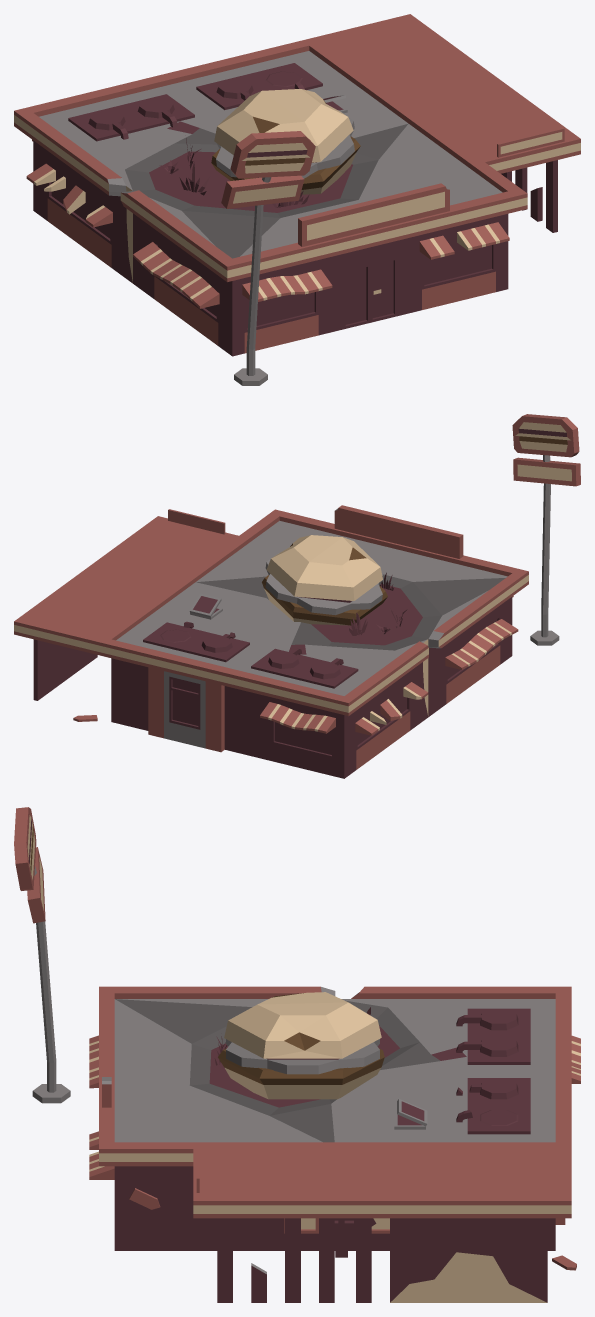
The model's file is building-burger-joint-apocalypse.fbx.
The picture shows the model from 3 angles, top to bottom: view 1: azimuth 30°, elevation 25°; view 2: azimuth 150°, elevation 25°; view 3: azimuth 270°, elevation 25°; orthographic projection. The views are drawn at different scales.
Parts seen in each view (by area): view 1: building-burger-joint-apocalypse; view 2: building-burger-joint-apocalypse; view 3: building-burger-joint-apocalypse.
Boxes of the visible parts, <box> form: building-burger-joint-apocalypse: <box>14,14,580,385</box>; building-burger-joint-apocalypse: <box>14,414,580,778</box>; building-burger-joint-apocalypse: <box>14,807,580,1302</box>.
Size of the model in its own units: 17.36 by 9.95 by 18.
